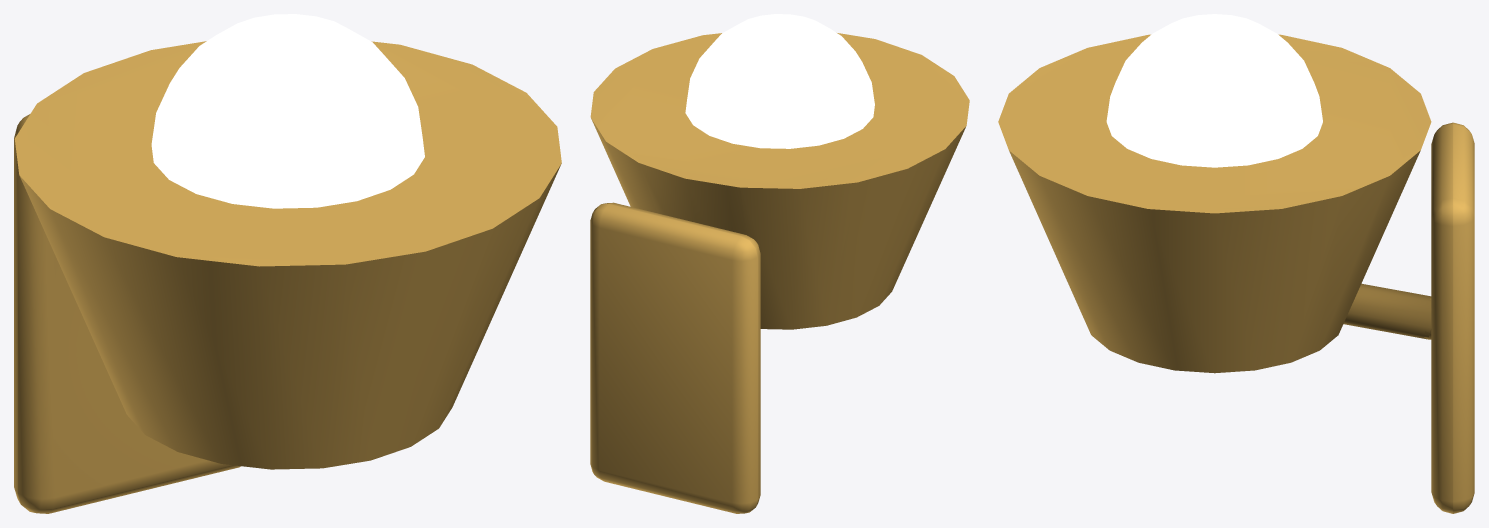
The model's file is sconce.glb.
3 views of the same model, side by side, from view 1: azimuth 30°, elevation 25°; view 2: azimuth 150°, elevation 25°; view 3: azimuth 270°, elevation 25° (orthographic). The views are drawn at different scales.
Visible parts, largest first — view 1: sconce; view 2: sconce; view 3: sconce.
Part boxes in pixels (x1,y1,x2,y2): sconce: [14, 14, 561, 513]; sconce: [590, 14, 969, 513]; sconce: [998, 14, 1474, 513].
Bounding box in the file's own units: 0.2 × 0.23 × 0.22.
